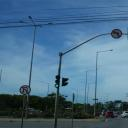NoVirarEsquerda: (110, 28, 123, 40)
NoVirarU: (19, 85, 32, 95)
